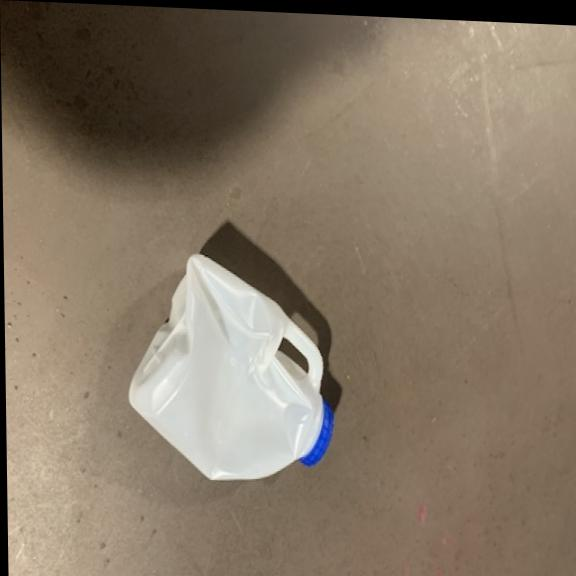Plastik: (123, 245, 340, 489)
